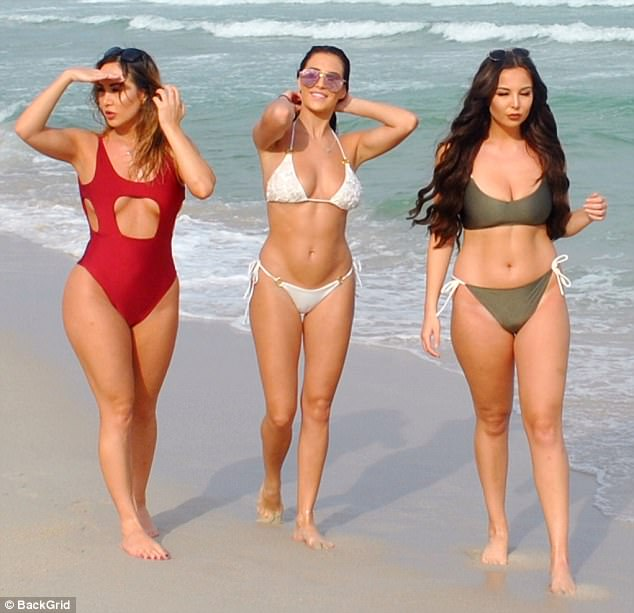Person: (405, 46, 608, 613), (21, 36, 224, 567), (229, 40, 419, 551)
